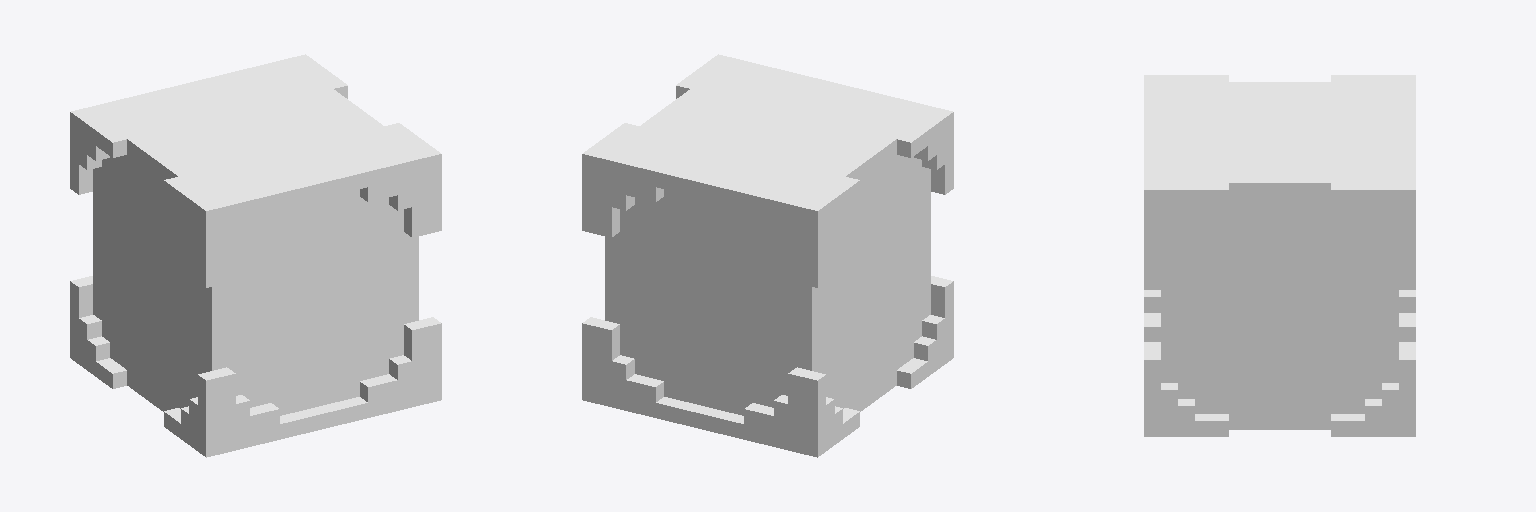
Rendered from block_test_1.obj.
3 renders of one model, left to right at view 1: azimuth 30°, elevation 25°; view 2: azimuth 150°, elevation 25°; view 3: azimuth 270°, elevation 25°, orthographic.
Visible parts, largest first — view 1: object 1; view 2: object 1; view 3: object 1.
Part boxes in pixels (x1,y1,x2,y2): object 1: (70, 54, 441, 457); object 1: (582, 54, 953, 457); object 1: (1144, 75, 1415, 436).
Size of the model in its own units: 1.6 by 1.6 by 1.6.